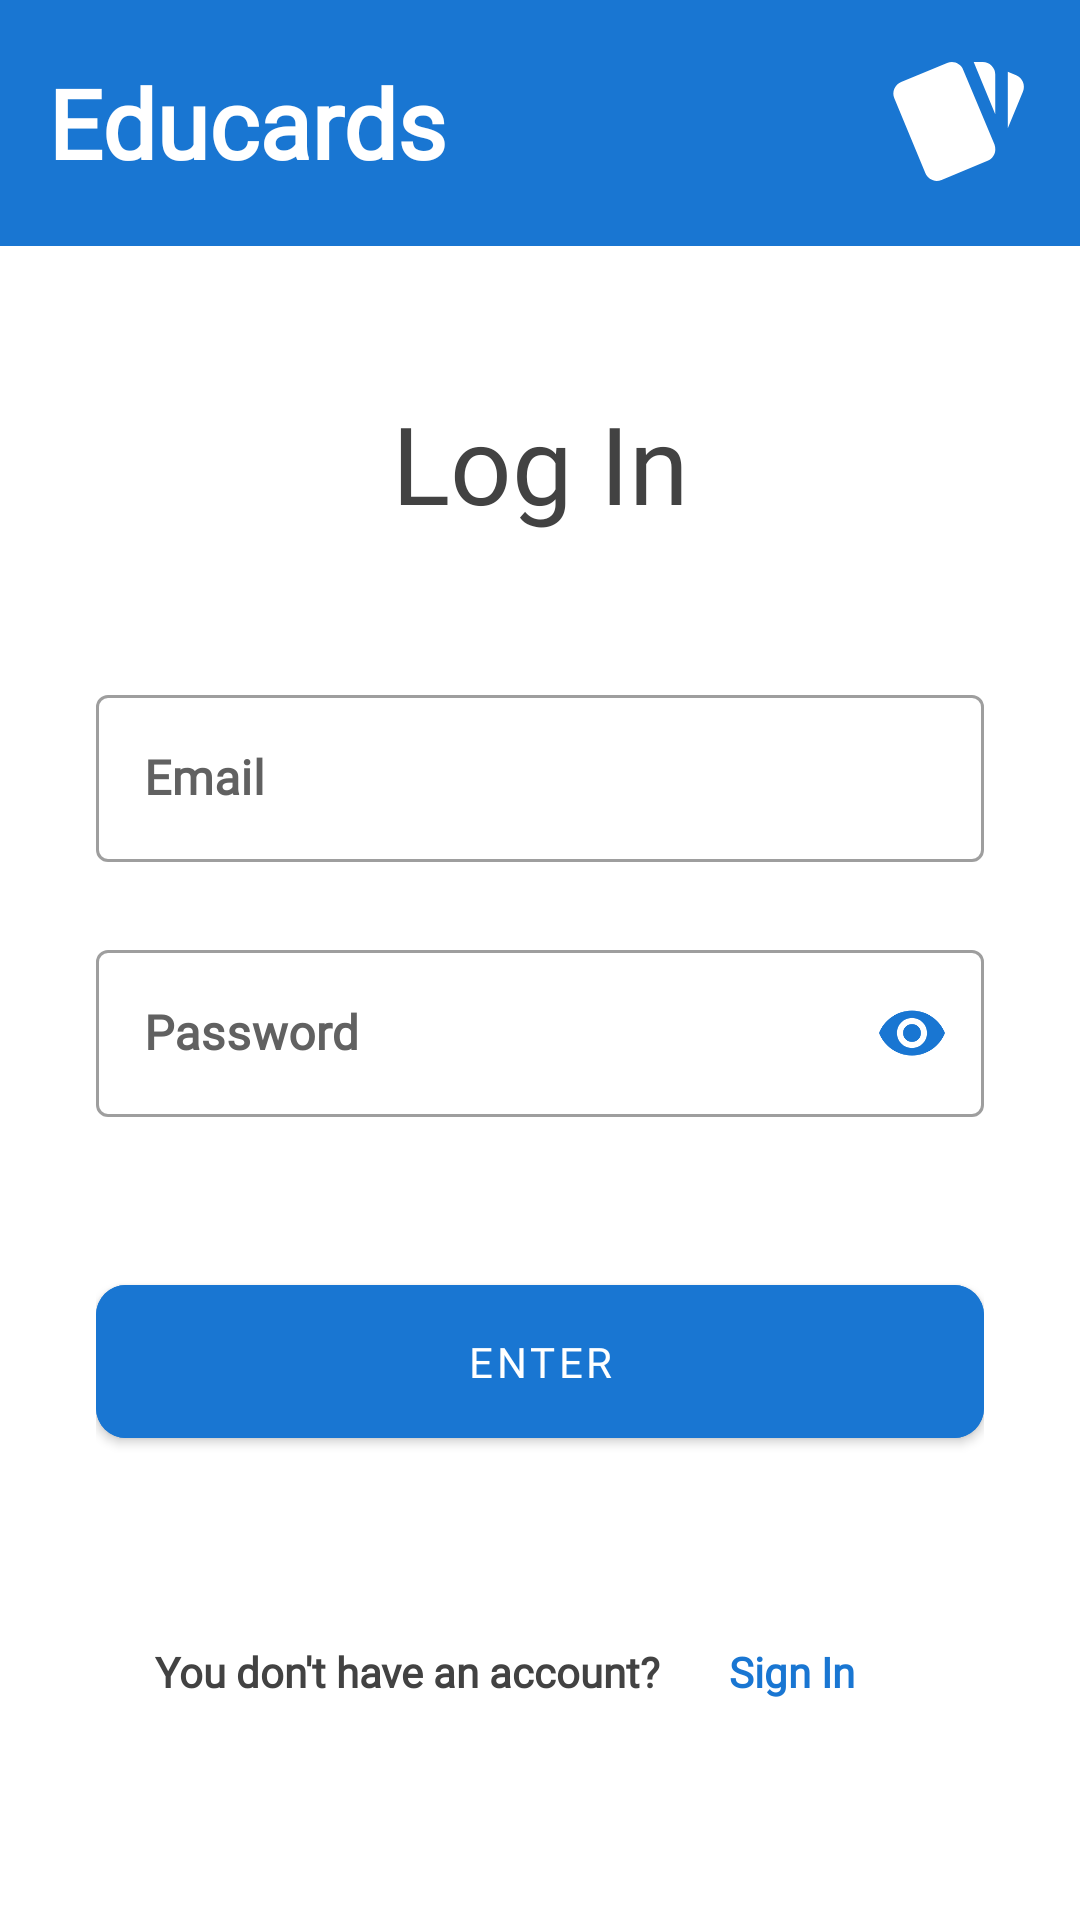

Where to tap for icons on this 1080 x 1920 app screen, as (x=x, y=y):
cards: (x=958, y=121)
